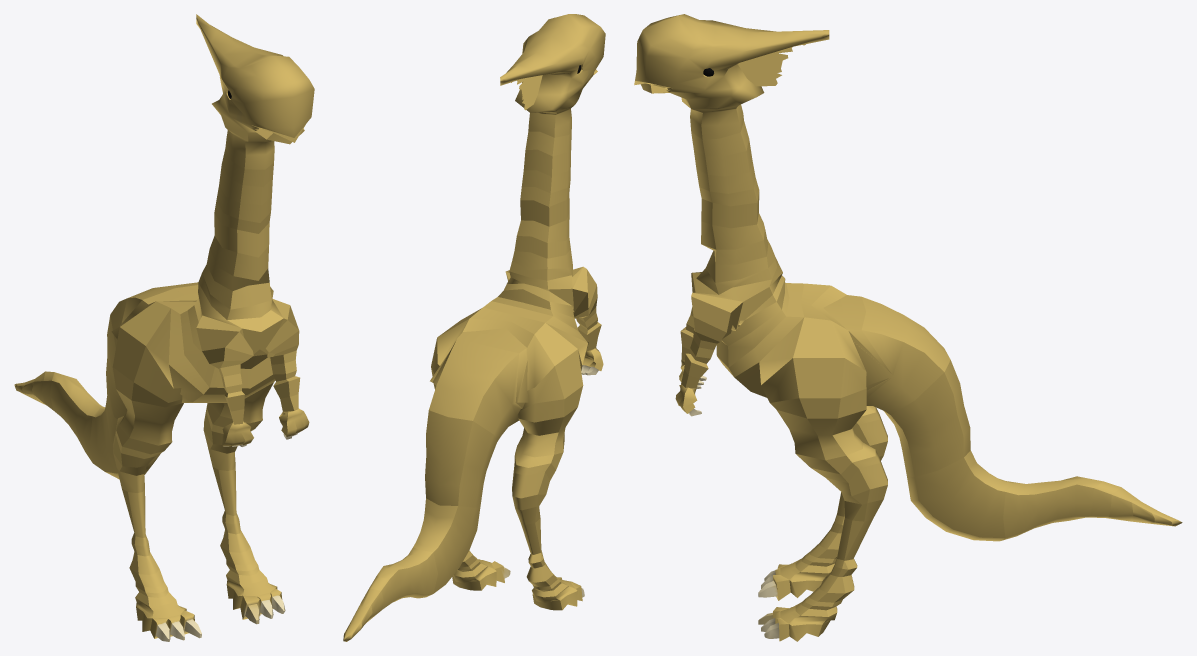
The model's file is Creature_Test.obj.
The picture shows the model from 3 angles, left to right: view 1: azimuth 30°, elevation 25°; view 2: azimuth 150°, elevation 25°; view 3: azimuth 270°, elevation 25°; orthographic projection. The views are drawn at different scales.
Visible parts, largest first — view 1: pSphere8; view 2: pSphere8; view 3: pSphere8.
Part boxes in pixels (x1,y1,x2,y2): pSphere8: [14, 14, 314, 641]; pSphere8: [343, 14, 605, 641]; pSphere8: [634, 14, 1182, 641].
Size of the model in its own units: 11.19 by 43.24 by 35.94.
